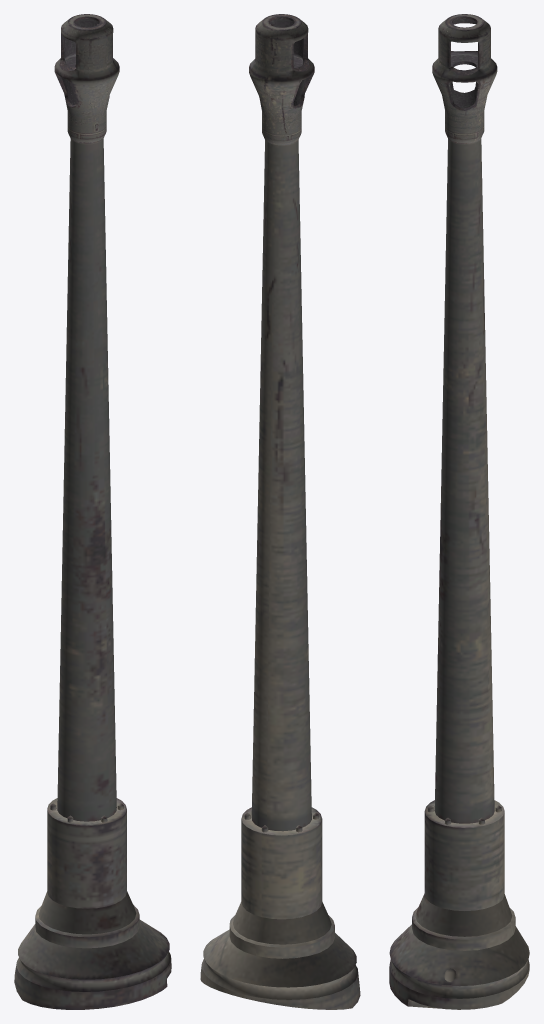
Rendered from Gun_05.glb.
3 views of the same model, side by side, from view 1: azimuth 30°, elevation 25°; view 2: azimuth 150°, elevation 25°; view 3: azimuth 270°, elevation 25° (orthographic).
Parts seen in each view (by area): view 1: set_0_group_0; view 2: set_0_group_0; view 3: set_0_group_0.
Boxes of the visible parts, left/top/right/bottom form: set_0_group_0: left=14, top=14, right=171, bottom=1009; set_0_group_0: left=200, top=14, right=360, bottom=1009; set_0_group_0: left=389, top=14, right=529, bottom=1009.
Bounding box in the file's own units: 0.7126 × 4.63 × 0.6135.
Materials: 1 (1 with a texture image).
